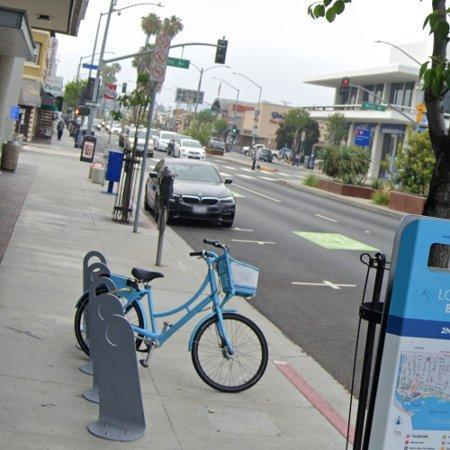bicycles: (192, 314, 269, 393)
